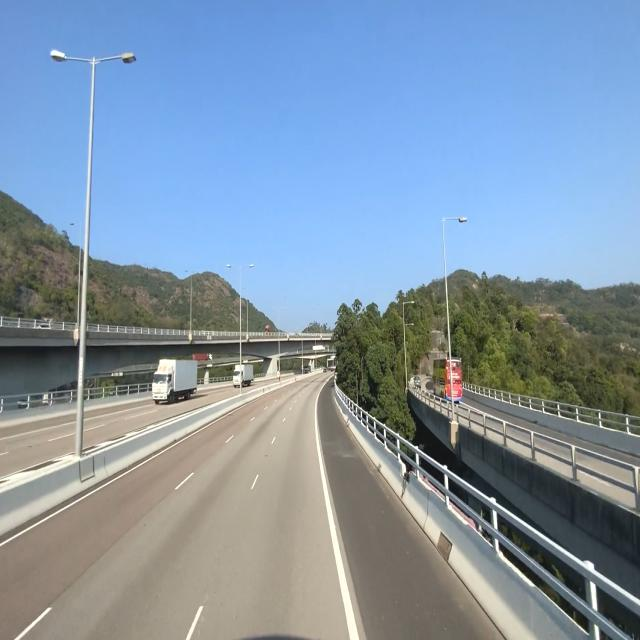Vehicle: (151, 358, 197, 408), (430, 356, 464, 404), (231, 362, 255, 389)
